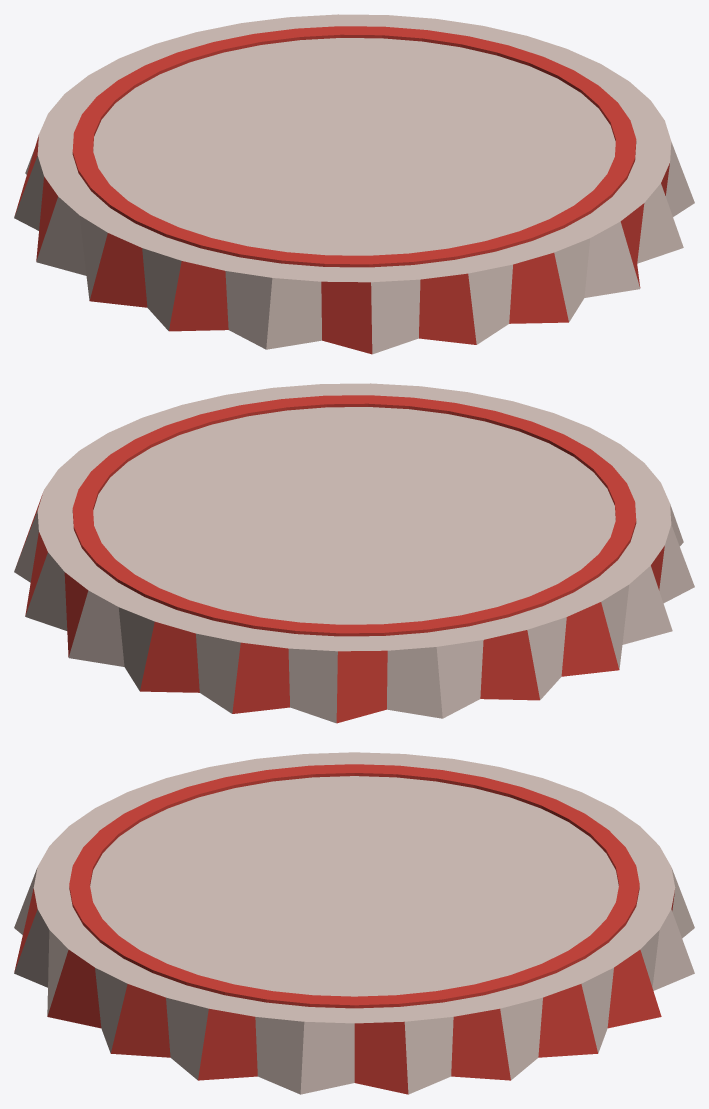
Rendered from Table.fbx.
The picture shows the model from 3 angles, top to bottom: view 1: azimuth 30°, elevation 25°; view 2: azimuth 150°, elevation 25°; view 3: azimuth 270°, elevation 25°; orthographic projection.
Parts seen in each view (by area): view 1: Table; view 2: Table; view 3: Table.
Part boxes in pixels (bbox=[...]): Table: bbox=[14, 14, 694, 354]; Table: bbox=[14, 383, 694, 723]; Table: bbox=[14, 752, 694, 1094].
Bounding box in the file's own units: 685 × 73.25 × 685.
